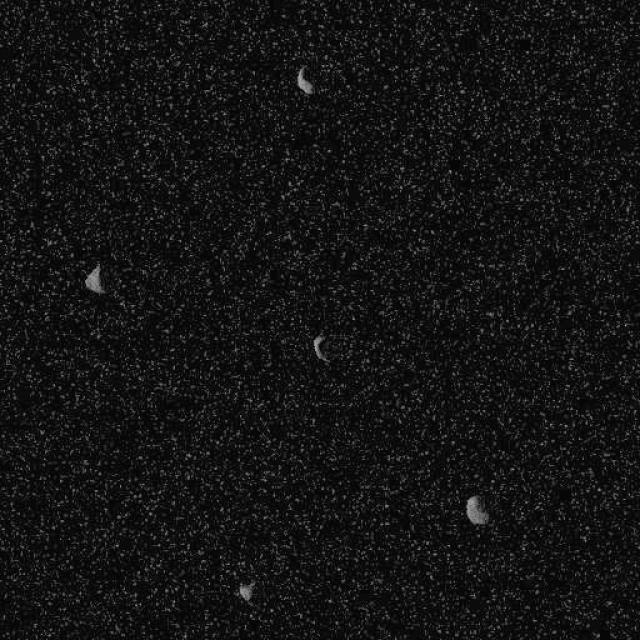D2: (82, 261, 106, 295), (465, 494, 489, 525), (295, 65, 314, 95), (311, 333, 330, 362), (237, 580, 255, 601)
